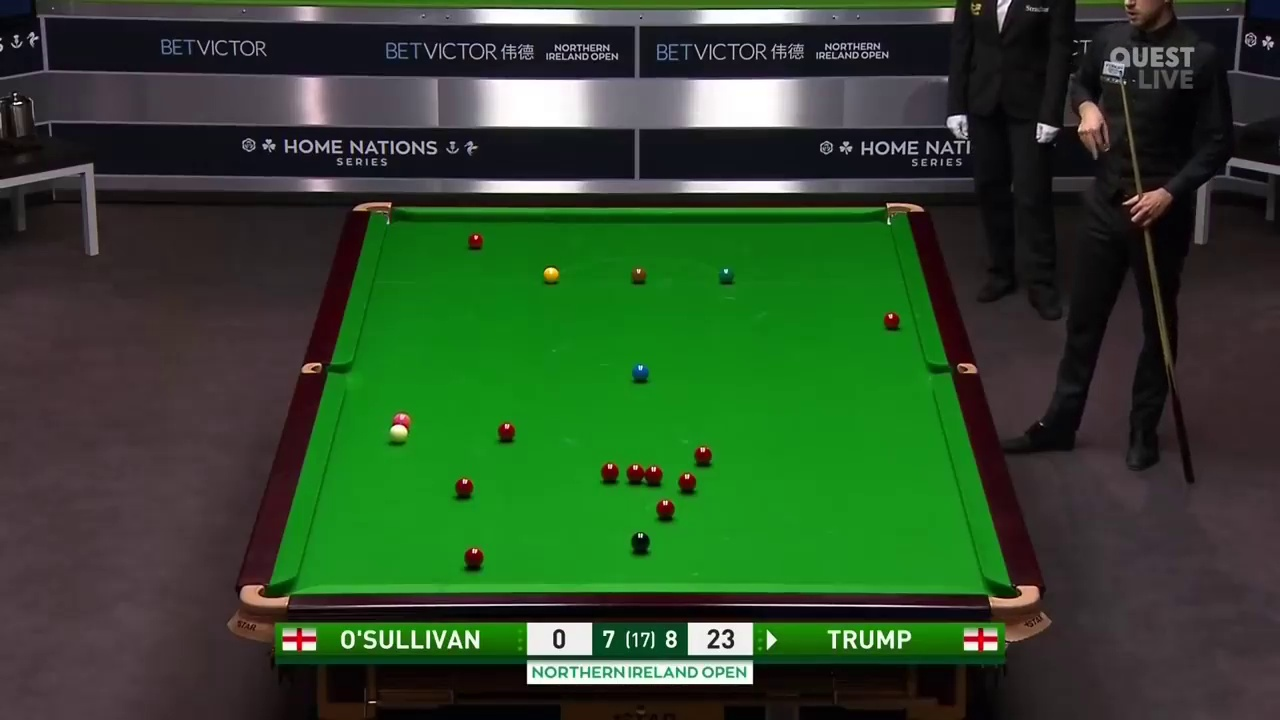ball: (653, 497, 679, 520), (463, 545, 488, 568), (692, 446, 716, 468), (465, 230, 486, 252), (454, 475, 476, 496), (495, 421, 518, 441), (628, 531, 651, 551), (631, 265, 650, 286), (631, 363, 652, 382), (883, 309, 900, 329), (542, 267, 559, 284), (719, 266, 736, 281)
